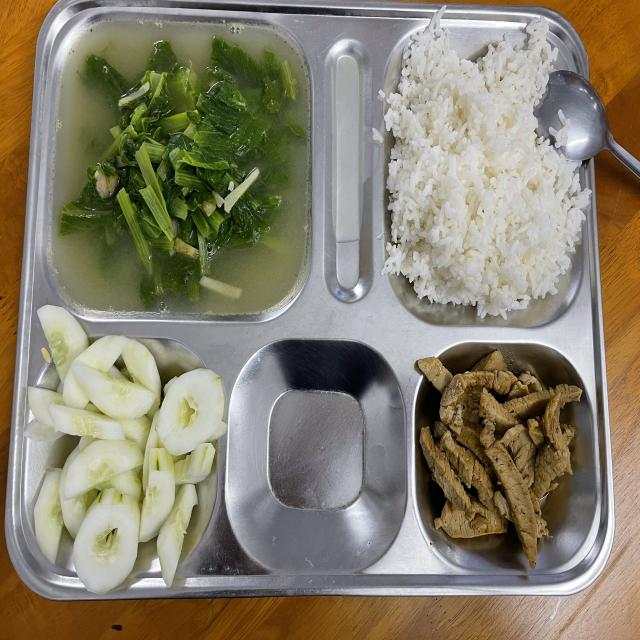canh_cai: (71, 66, 282, 278)
com_trang: (395, 94, 576, 290)
thit_kho: (431, 399, 571, 537)
